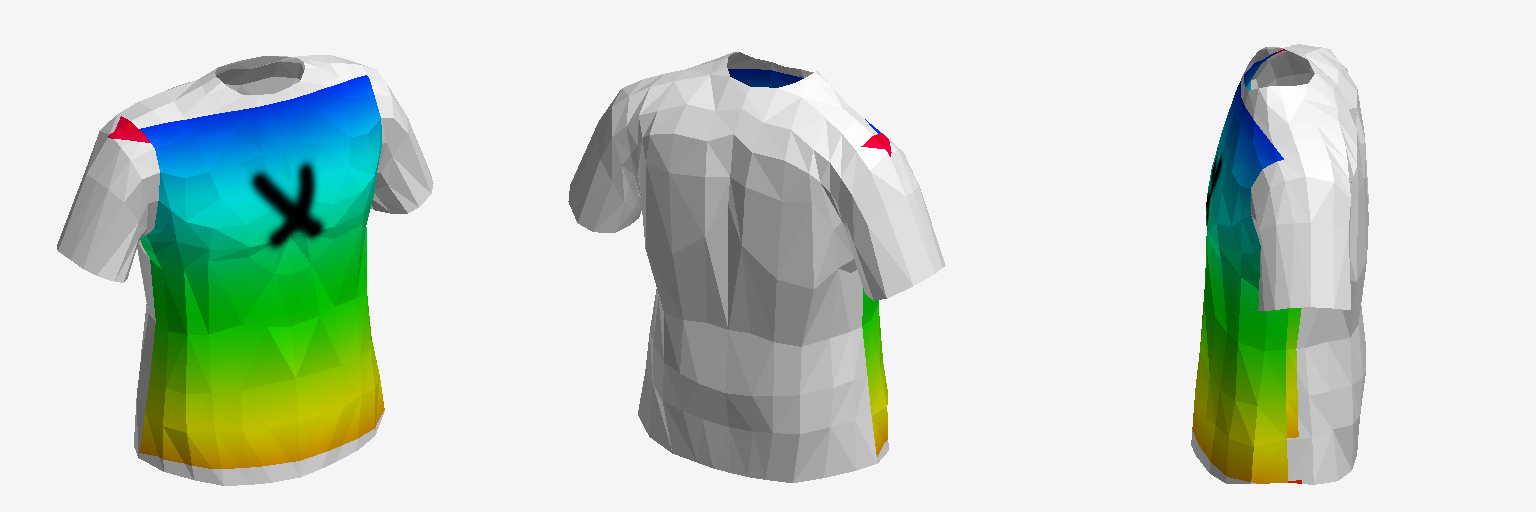
3 views of the same model, side by side, from view 1: azimuth 30°, elevation 25°; view 2: azimuth 150°, elevation 25°; view 3: azimuth 270°, elevation 25° (orthographic).
Size of the model in its own units: 174 by 173 by 73.63.
Materials: 1 (1 with a texture image).